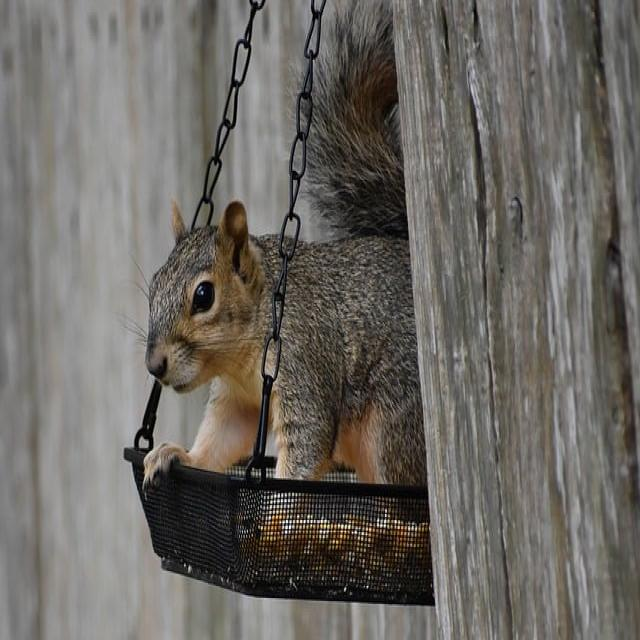Herbivorous: (146, 202, 285, 474)
